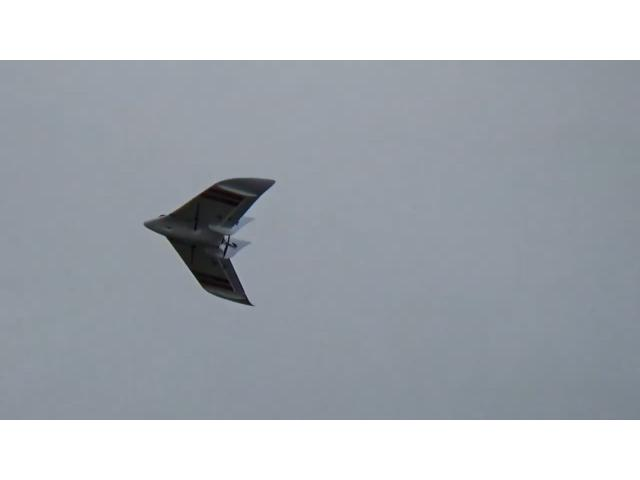Anti-Drone: (144, 176, 276, 308)
